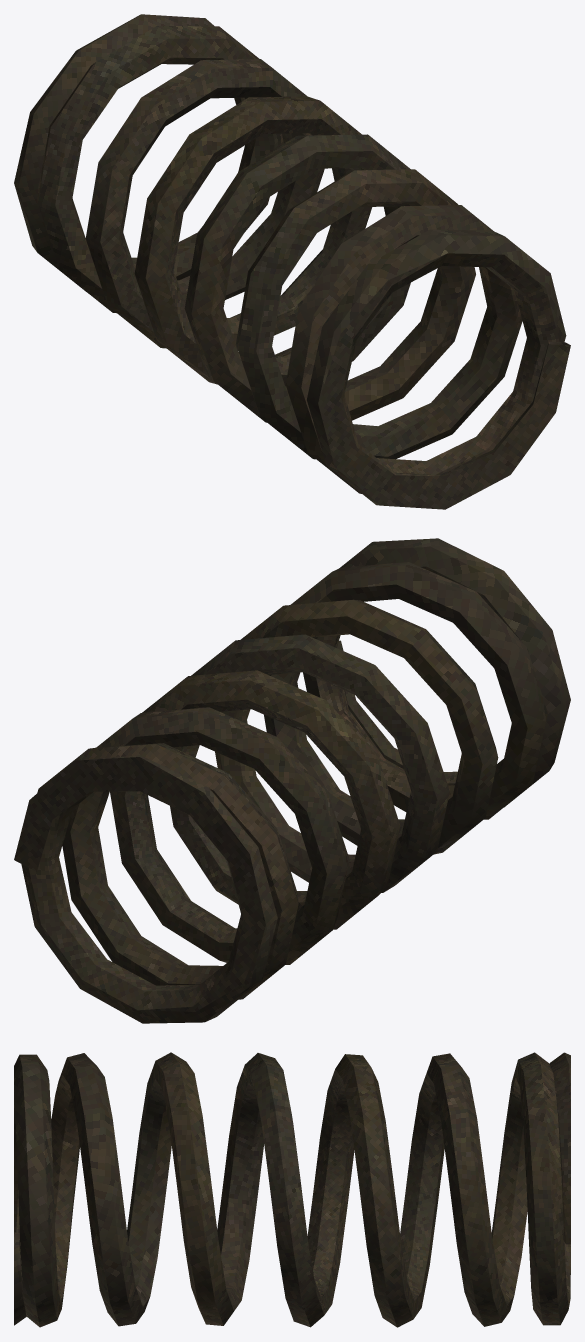
The model's file is spring_mx_1_small.glb.
The picture shows the model from 3 angles, top to bottom: view 1: azimuth 30°, elevation 25°; view 2: azimuth 150°, elevation 25°; view 3: azimuth 270°, elevation 25°; orthographic projection. The views are drawn at different scales.
Visible parts, largest first — view 1: spring_mx_1_small; view 2: spring_mx_1_small; view 3: spring_mx_1_small.
Boxes of the visible parts, <box> form: spring_mx_1_small: <box>14,14,570,509</box>; spring_mx_1_small: <box>14,538,570,1023</box>; spring_mx_1_small: <box>14,1052,570,1327</box>.
Size of the model in its own units: 0.069 by 0.069 by 0.139.
Materials: 1 (1 with a texture image).
